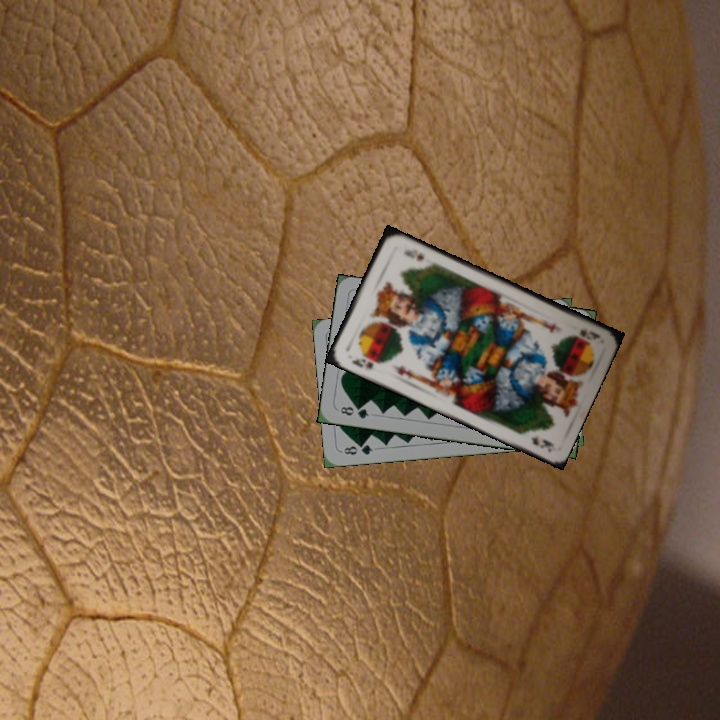G8: (334, 402, 371, 421), (340, 440, 375, 458)
SK: (348, 354, 376, 372), (575, 325, 603, 343)
